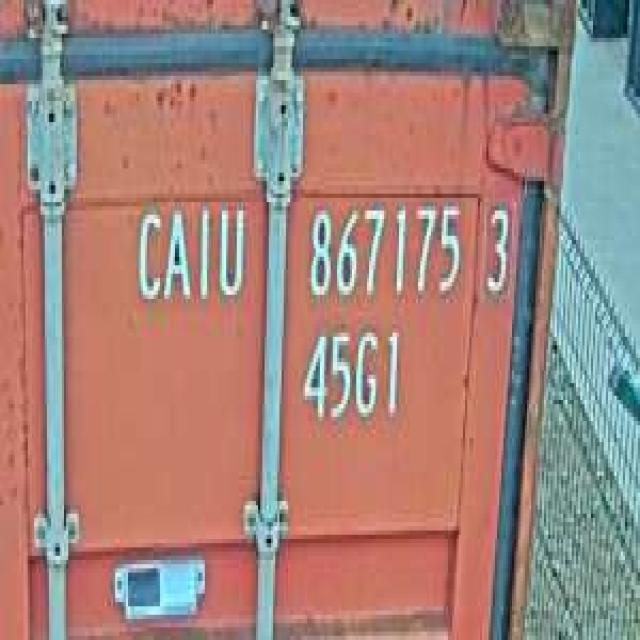dv: (478, 190, 514, 303)
owner: (130, 194, 250, 312)
serial: (301, 190, 463, 308)
size: (296, 316, 406, 434)
